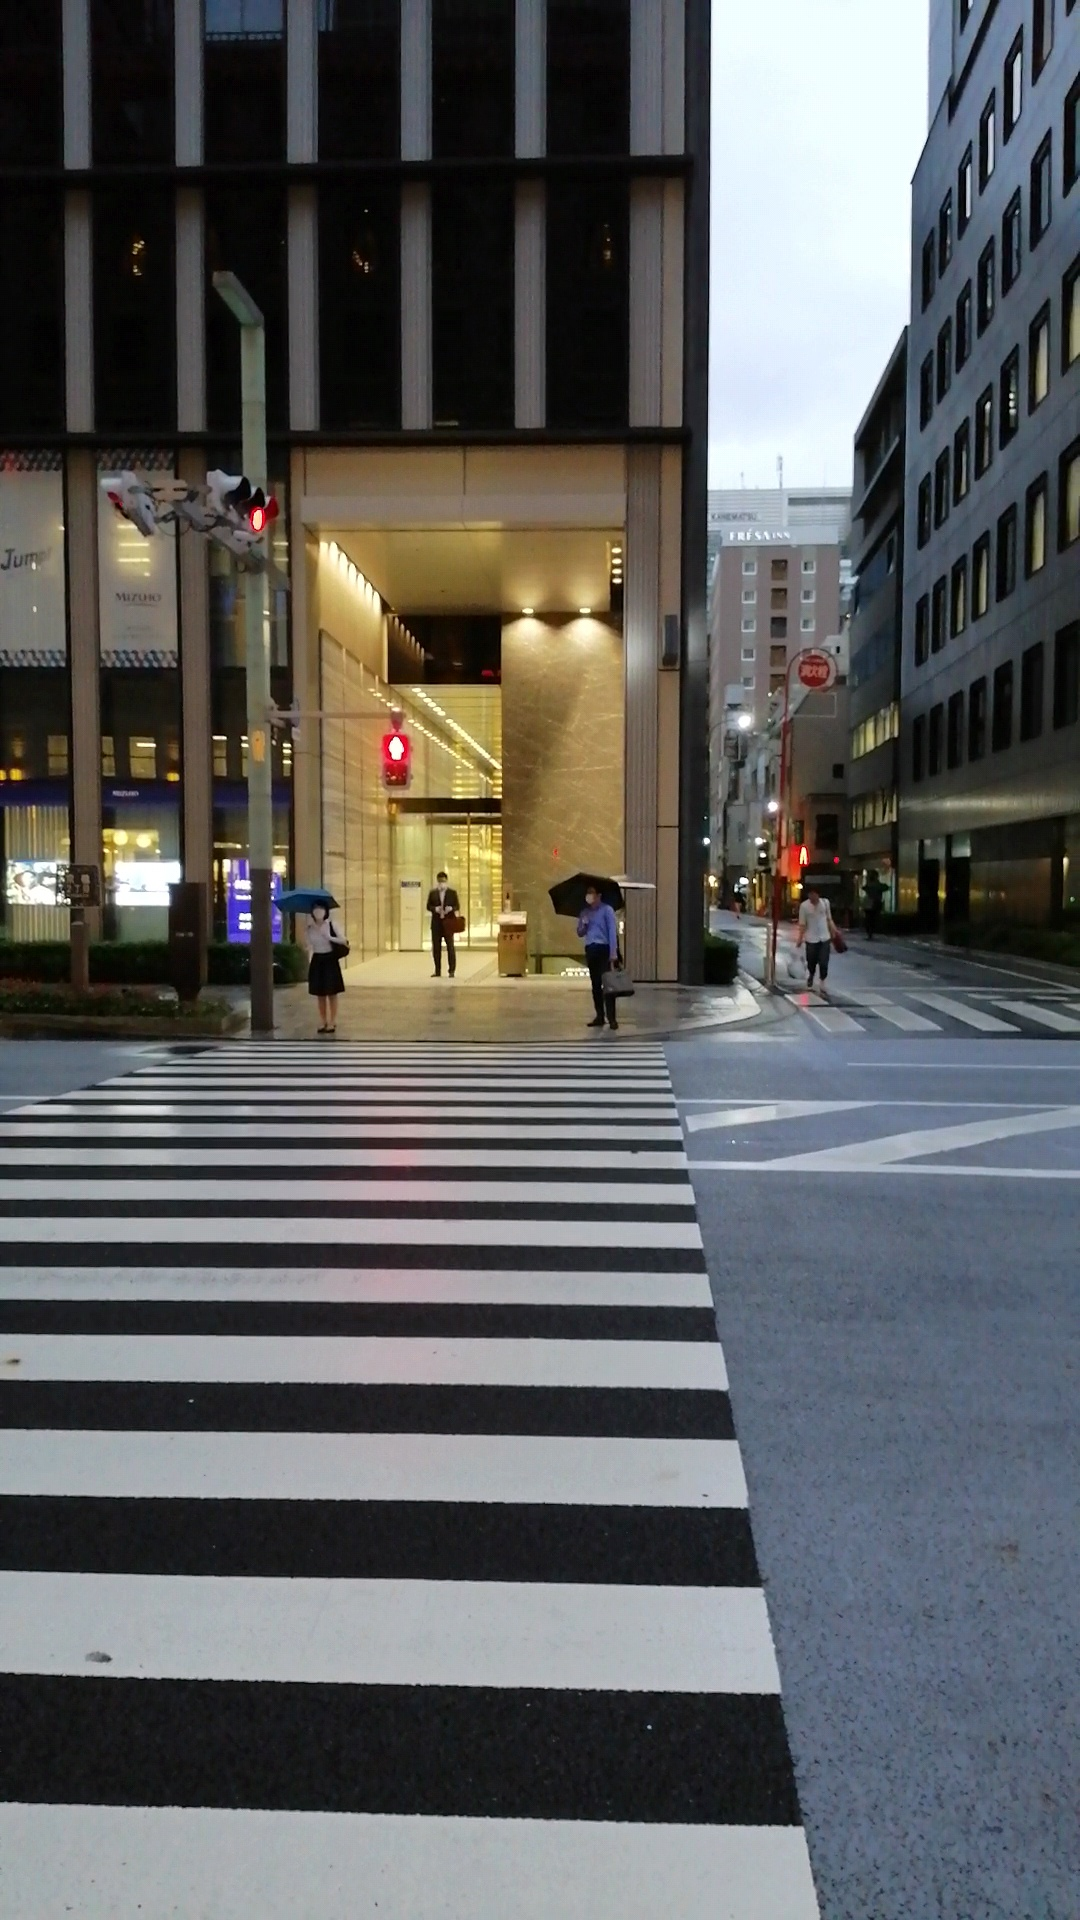red: (380, 731, 411, 793)
